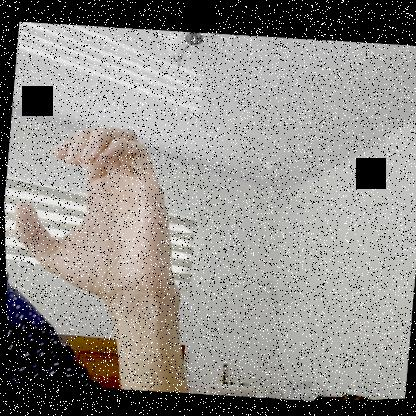C: (4, 112, 194, 305)
